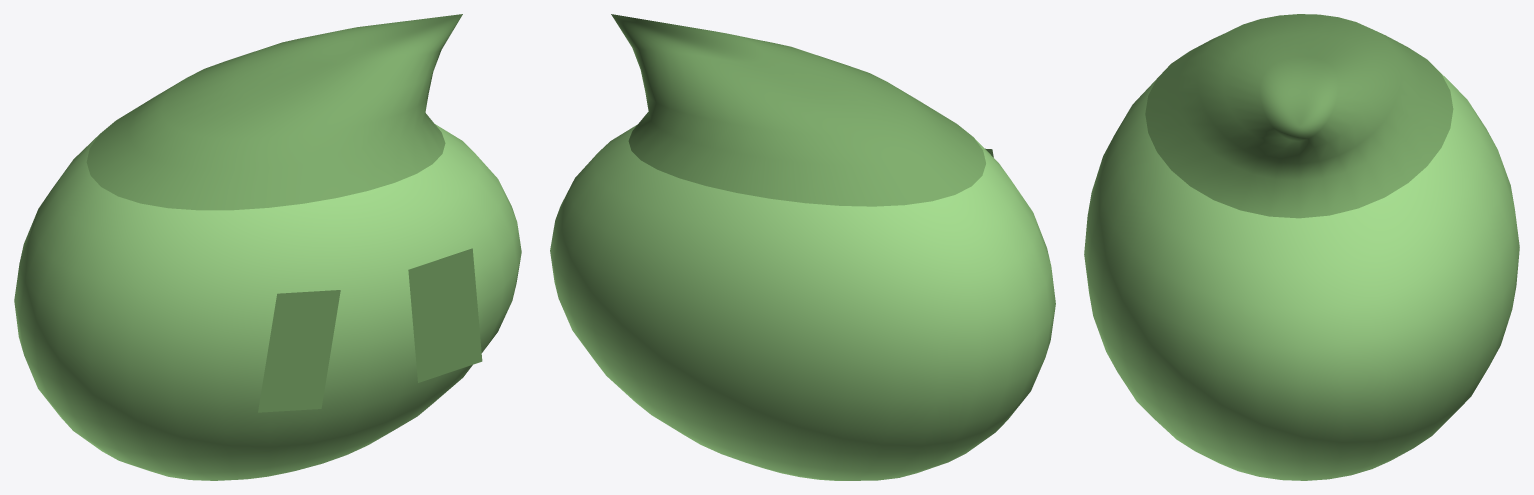
Rendered from Cannaslime.fbx.
The picture shows the model from 3 angles, left to right: view 1: azimuth 30°, elevation 25°; view 2: azimuth 150°, elevation 25°; view 3: azimuth 270°, elevation 25°; orthographic projection. The views are drawn at different scales.
Visible parts, largest first — view 1: Cone001; view 2: Cone001; view 3: Cone001.
Part boxes in pixels (box(x1,y1,x2,y2)): Cone001: box(14, 14, 521, 480); Cone001: box(550, 14, 1055, 480); Cone001: box(1084, 14, 1519, 480).
Bounding box in the file's own units: 20.25 × 16.36 × 15.02.
